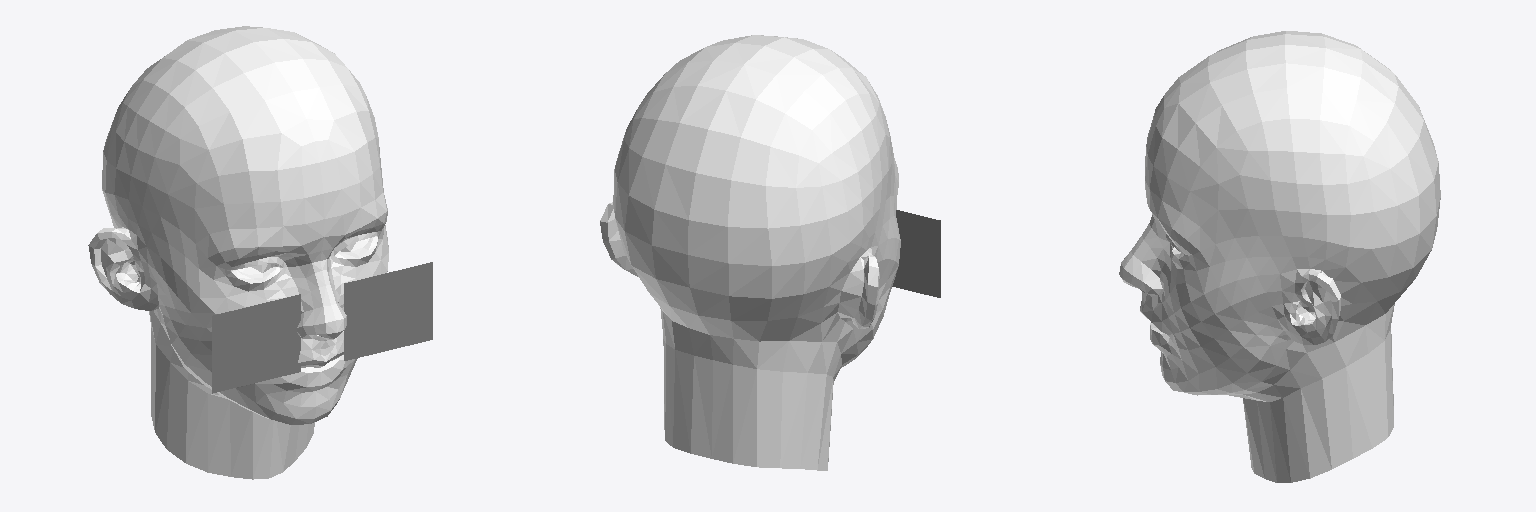
The model's file is yanhua.obj.
3 renders of one model, left to right at view 1: azimuth 30°, elevation 25°; view 2: azimuth 150°, elevation 25°; view 3: azimuth 270°, elevation 25°, orthographic.
Parts seen in each view (by area): view 1: basehead, Plane005, Plane004; view 2: basehead, Plane004; view 3: basehead.
Boxes of the visible parts, box(x1,y1,x2,y2) form: basehead: box(88, 26, 388, 479); Plane005: box(344, 262, 432, 360); Plane004: box(212, 294, 300, 393); basehead: box(600, 35, 900, 470); Plane004: box(892, 210, 940, 297); basehead: box(1119, 31, 1440, 482).
Size of the model in its own units: 0.187 by 0.273 by 0.1879.